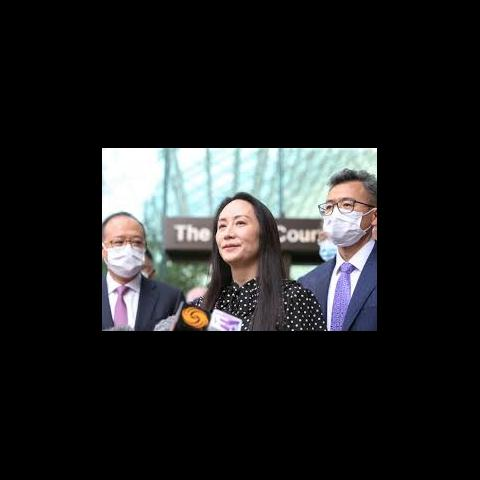opened: (215, 214, 251, 232), (322, 196, 358, 214), (109, 234, 146, 250)
